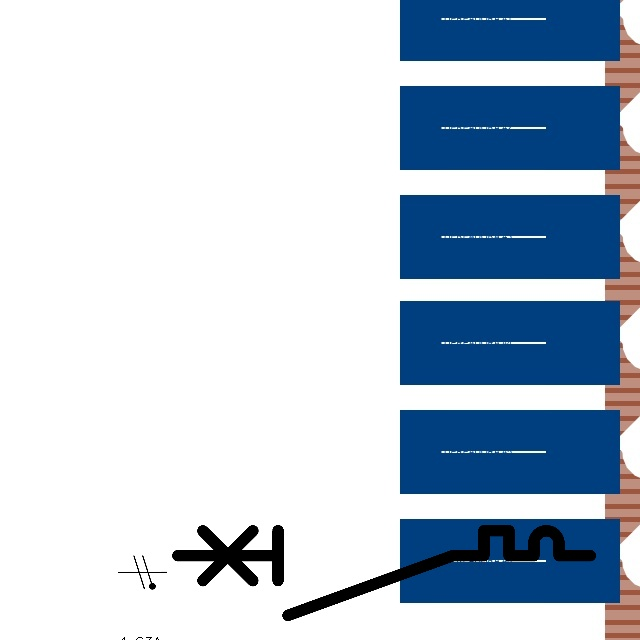interruptor_termomagnetico: (167, 520, 601, 626)
